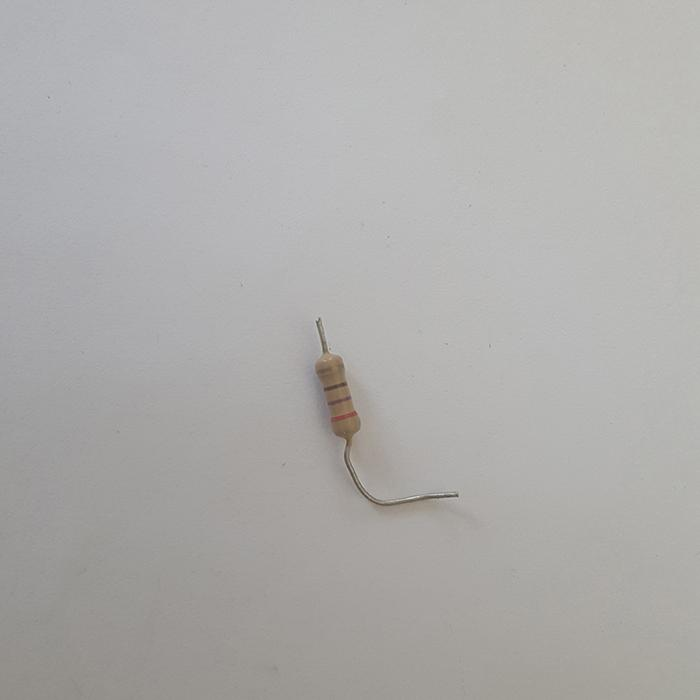resistor: (314, 321, 359, 439)
